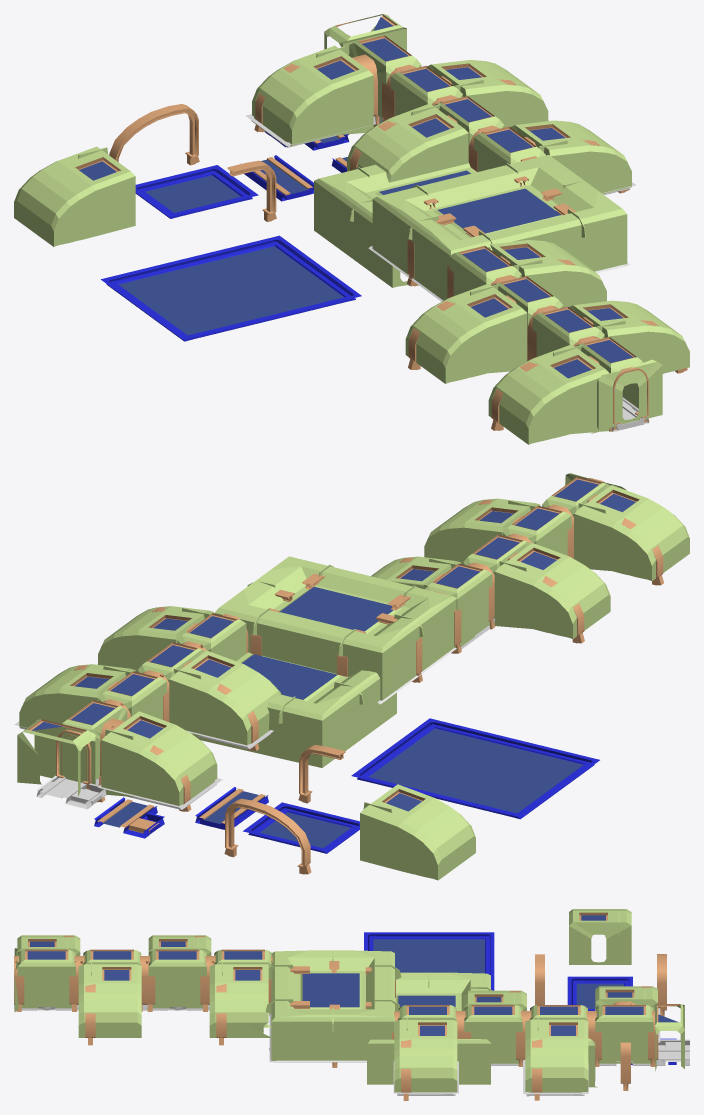
File: paredes2.fbx
3 views of the same model, one above another, from view 1: azimuth 30°, elevation 25°; view 2: azimuth 150°, elevation 25°; view 3: azimuth 270°, elevation 25° (orthographic). The views are drawn at different scales.
Visible parts, largest first — view 1: pared, Plano.001, paredes rejilla, metalviejoparedes, Plano.007, Plano.006, Plano.002, Cubo.002, Plano, metaldepiso, Cubo.001; view 2: pared, Plano.001, Plano.006, paredes rejilla, metalviejoparedes, Plano.007, Plano.002, metaldepiso, Cubo.002, Plano.004, Plano, Cubo.001; view 3: pared, metalviejoparedes, paredes rejilla, Plano.006, Plano.001, Plano.007, metaldepiso, Plano.002, Cubo.002, Cubo.001, Cubo.006, Plano.005.
Part boxes in pixels (x1,y1,x2,y2): pared: (252,14,689,444); Plano.001: (101,235,361,341); paredes rejilla: (317,17,633,378); metalviejoparedes: (254,14,687,431); Plano.007: (14,146,135,246); Plano.006: (314,162,476,287); Plano.002: (135,165,258,218); Cubo.002: (109,104,199,165); Plano: (240,155,313,201); metaldepiso: (245,114,648,431); Cubo.001: (227,160,276,221); pared: (17,473,689,805); Plano.001: (351,718,599,819); Plano.006: (195,652,396,767); paredes rejilla: (32,479,635,738); metalviejoparedes: (28,476,663,811); Plano.007: (360,784,475,880); Plano.002: (243,802,359,853); metaldepiso: (14,618,494,809); Cubo.002: (224,798,311,874); Plano.004: (94,797,164,838); Plano: (195,787,268,829); Cubo.001: (298,745,345,803); pared: (14,935,684,1092); metalviejoparedes: (14,935,680,1100); paredes rejilla: (27,941,678,1035); Plano.006: (367,972,492,1084); Plano.001: (364,932,494,990); Plano.007: (569,909,631,964); metaldepiso: (14,1005,689,1096); Plano.002: (567,976,632,1010); Cubo.002: (657,954,666,1016); Cubo.001: (535,954,544,1005); Cubo.006: (620,1042,630,1090); Plano.005: (588,1038,597,1087).
Size of the model in its own units: 2631 by 489 by 4127.
